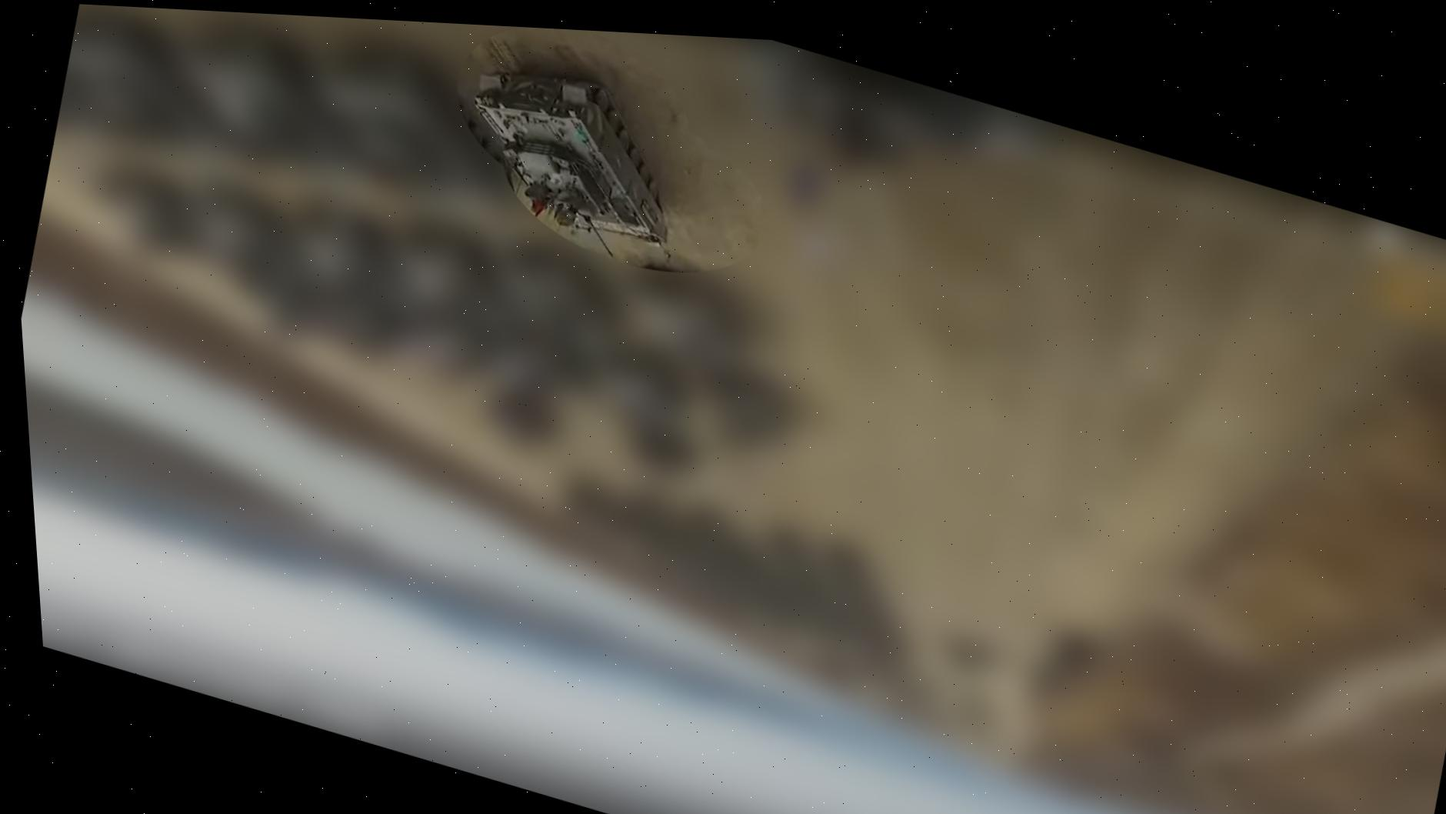tank: (435, 36, 716, 283)
